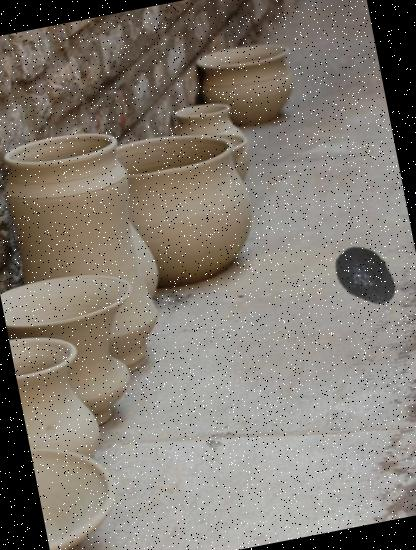Avocado: (326, 235, 407, 316)
